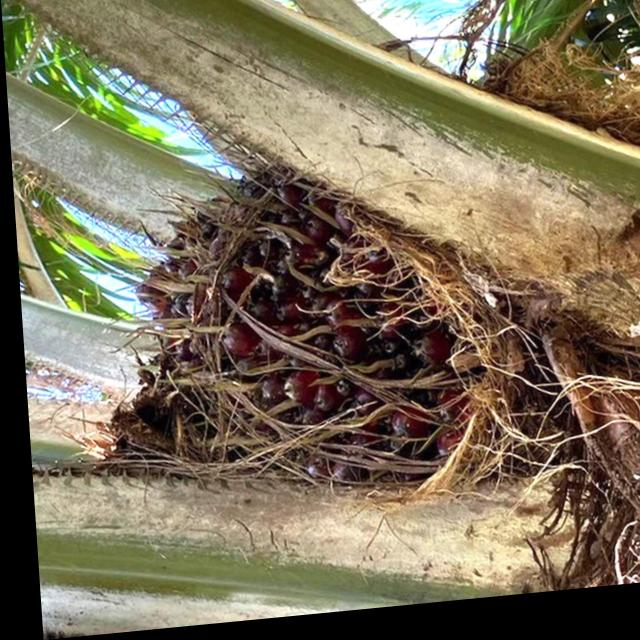ripe: (86, 132, 590, 549)
